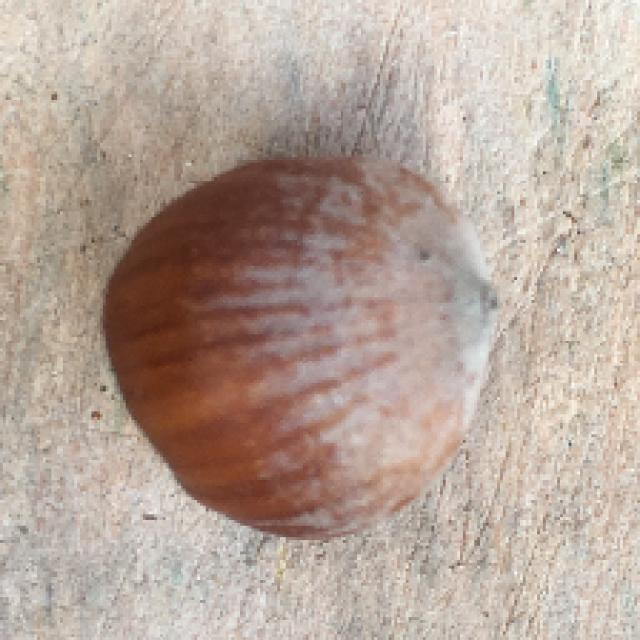qualityHazelnut: (94, 153, 514, 547)
